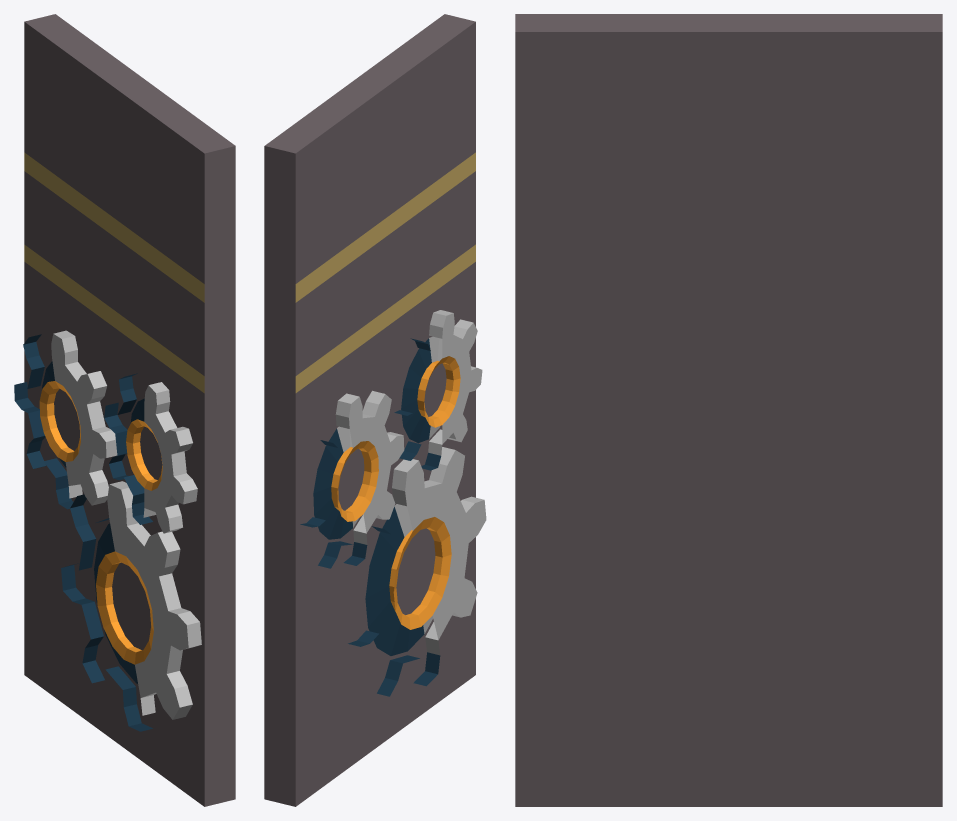
Rendered from gears_wall - Copia.fbx.
3 views of the same model, side by side, from view 1: azimuth 30°, elevation 25°; view 2: azimuth 150°, elevation 25°; view 3: azimuth 270°, elevation 25° (orthographic). The views are drawn at different scales.
Visible parts, largest first — view 1: Plane; view 2: Plane; view 3: Plane.
Boxes of the visible parts, left/top/right/bottom form: Plane: left=14, top=14, right=235, bottom=806; Plane: left=264, top=14, right=486, bottom=806; Plane: left=515, top=14, right=942, bottom=806.
Bounding box in the file's own units: 14.23 × 200 × 100.
